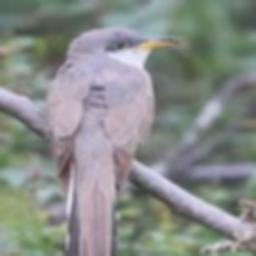Cuckoo: (44, 25, 180, 256)
